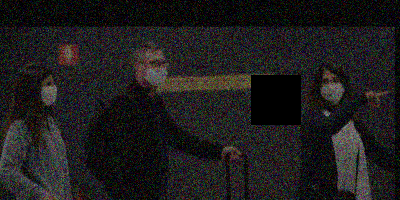with_mask: (140, 56, 170, 86), (317, 73, 345, 104), (40, 78, 58, 107)
